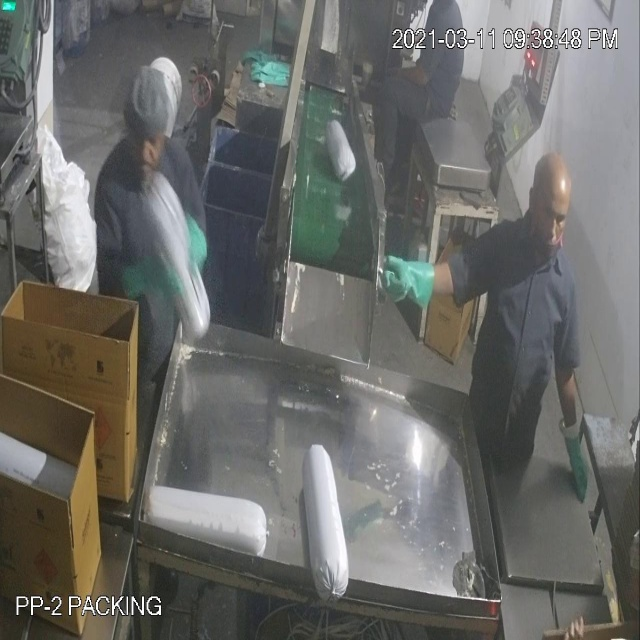Guantes: (549, 400, 596, 510), (377, 246, 442, 324)
